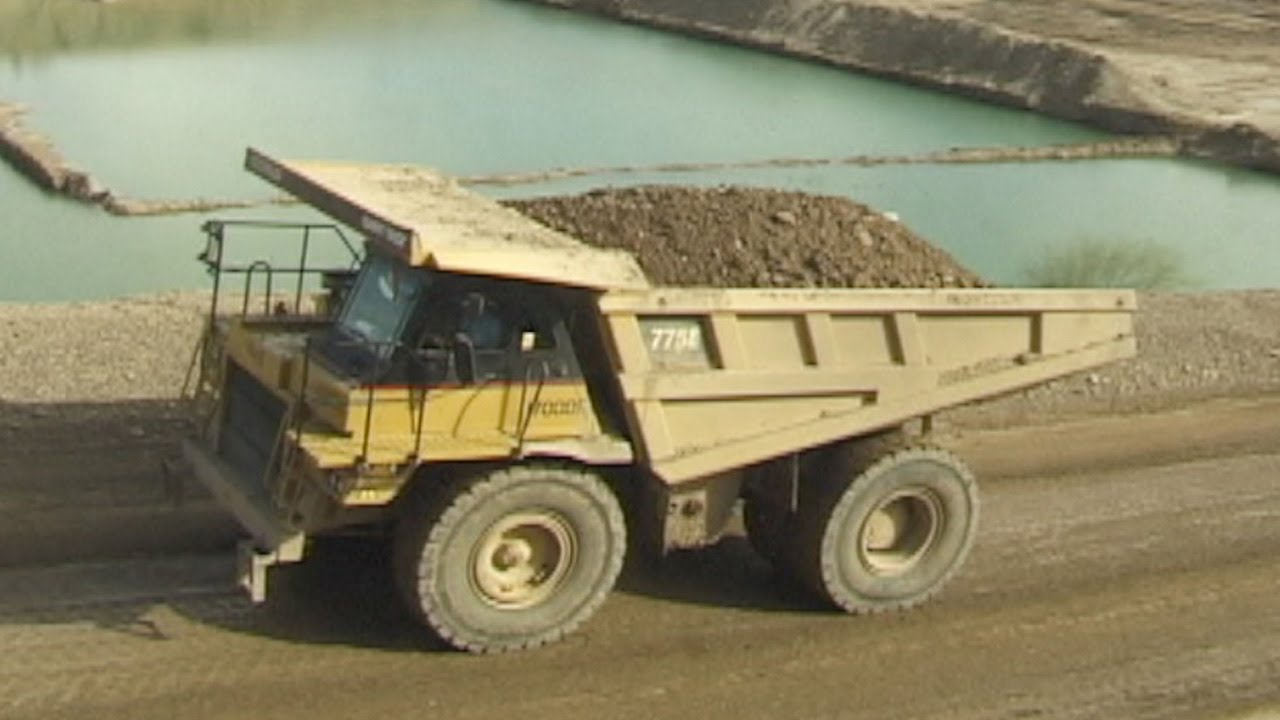truck: (168, 105, 1078, 661)
